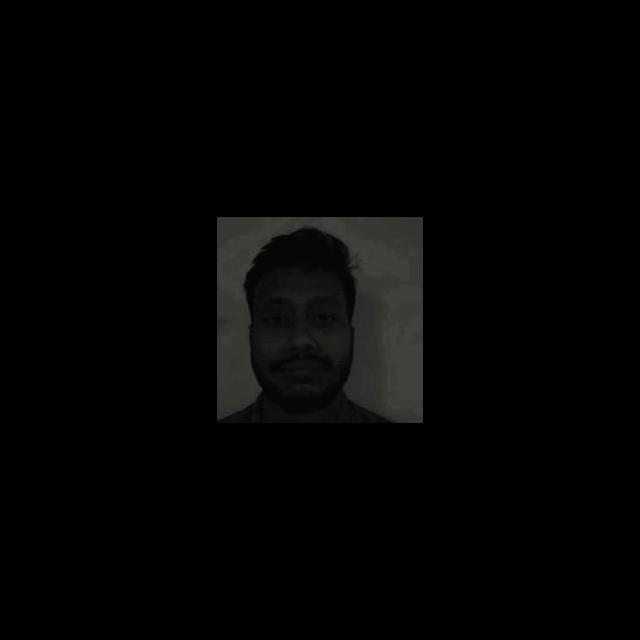Natural: (239, 270, 368, 413)
